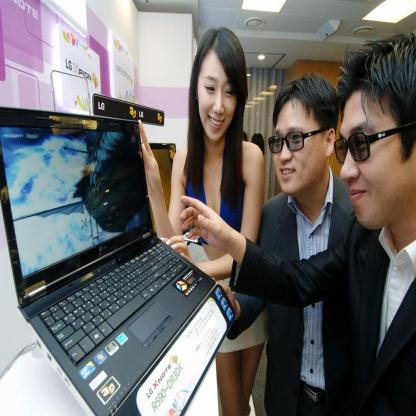board: (1, 91, 237, 414)
